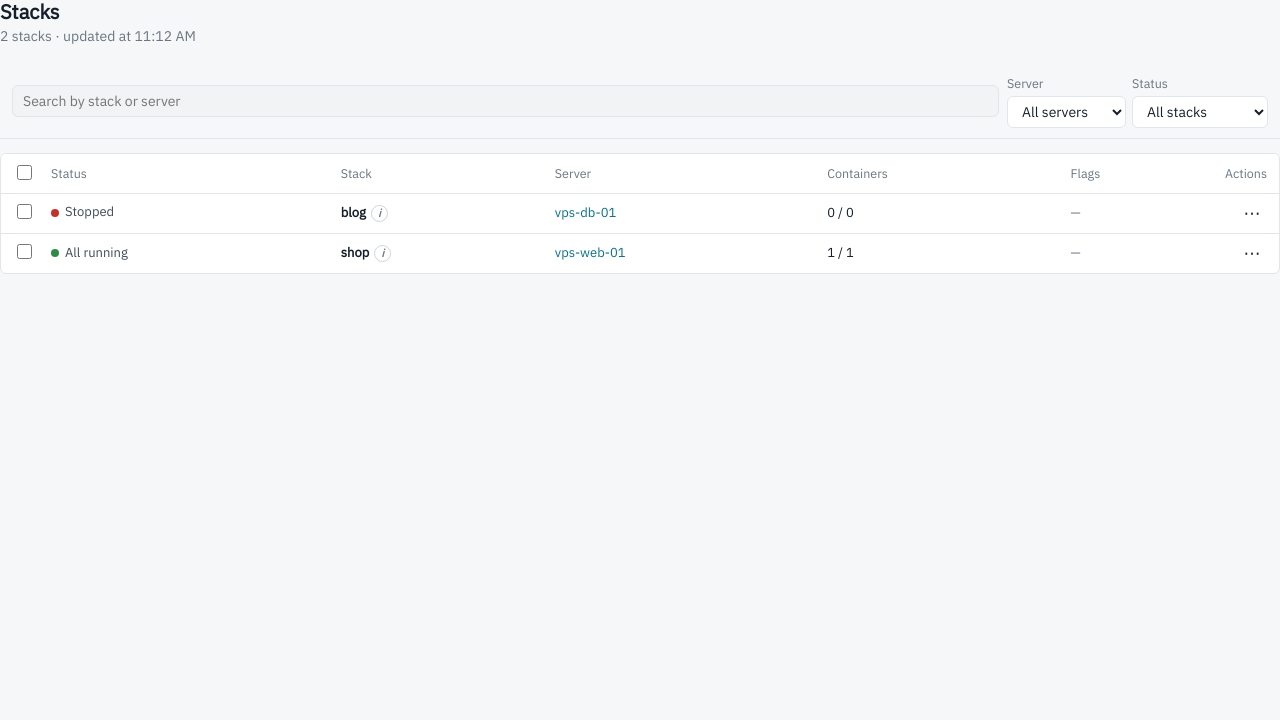
Test: Stacks › confirms bulk Restart and reports the summary
Expected: the link "blog" is shown, [341,204,366,222]
Click the checkbox named "Select all" at (24, 173), box [17,165,32,180]
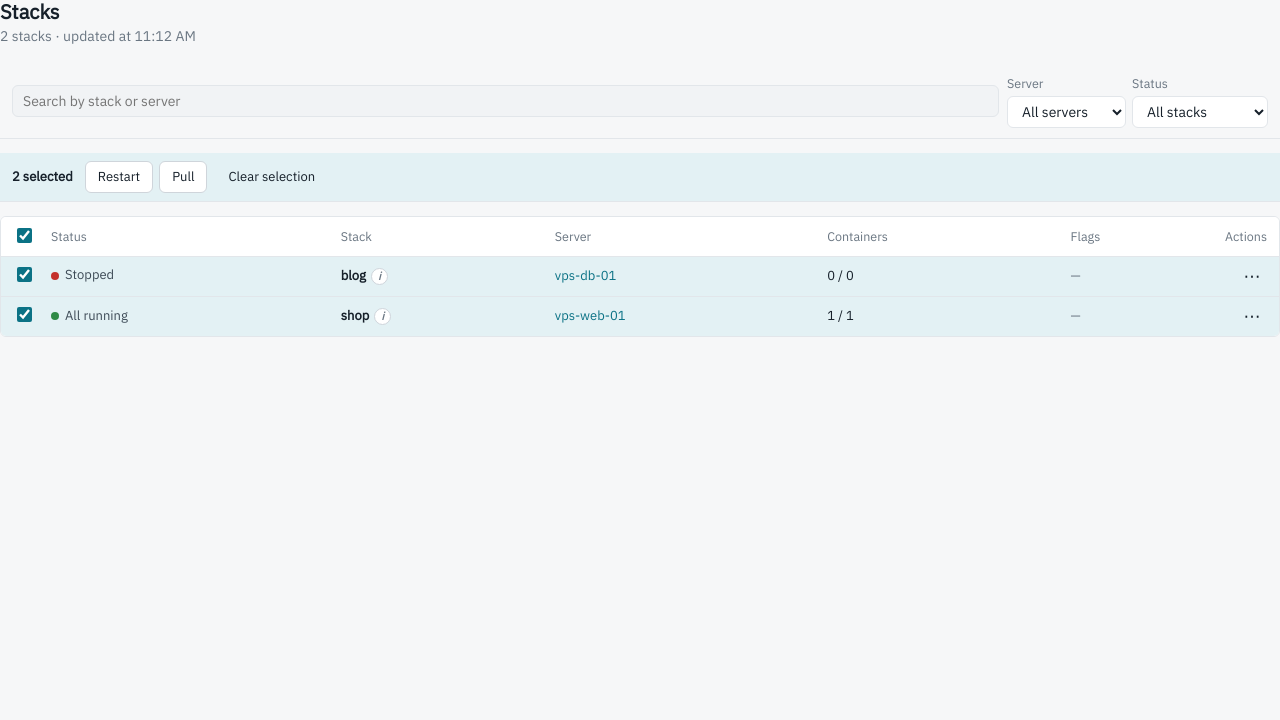
Click the button "Restart" at (119, 177), box [85,161,153,193]
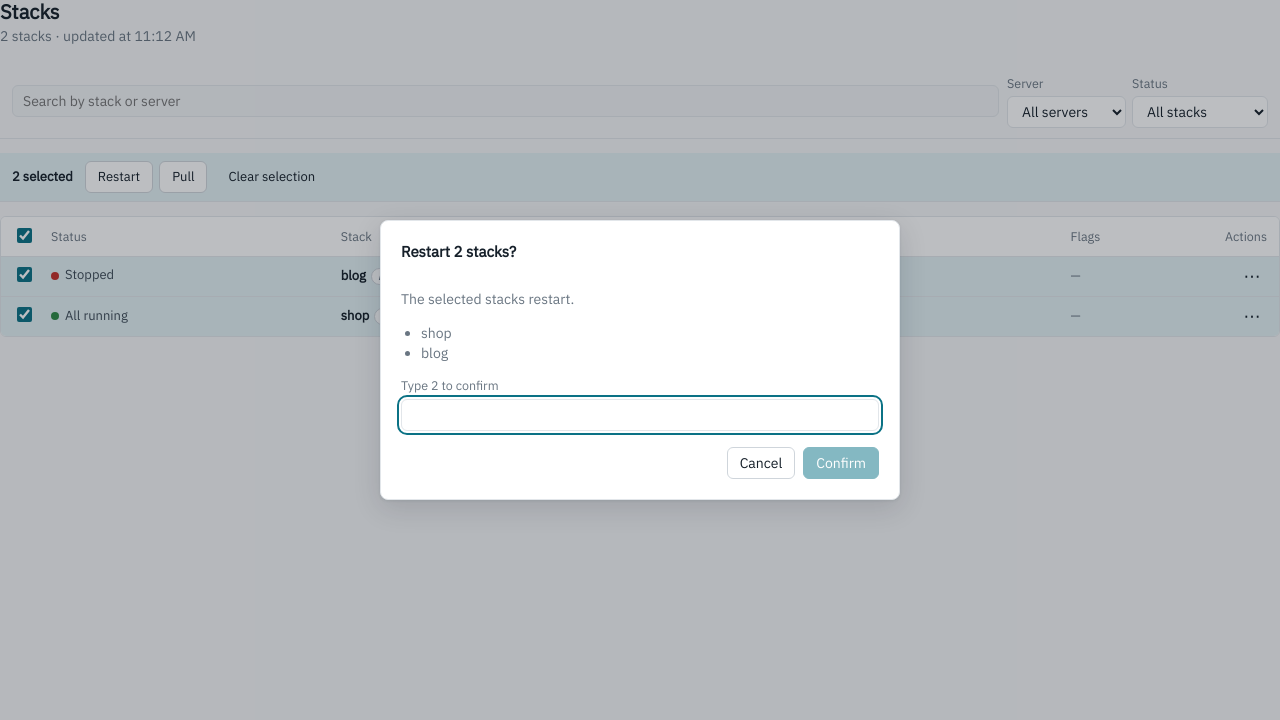
Expected: the heading "Restart 2 stacks?" is shown, [401,242,516,261]
Type "2" into the field labelled "Type 2 to confirm" at (640, 415), box [401,399,879,431]
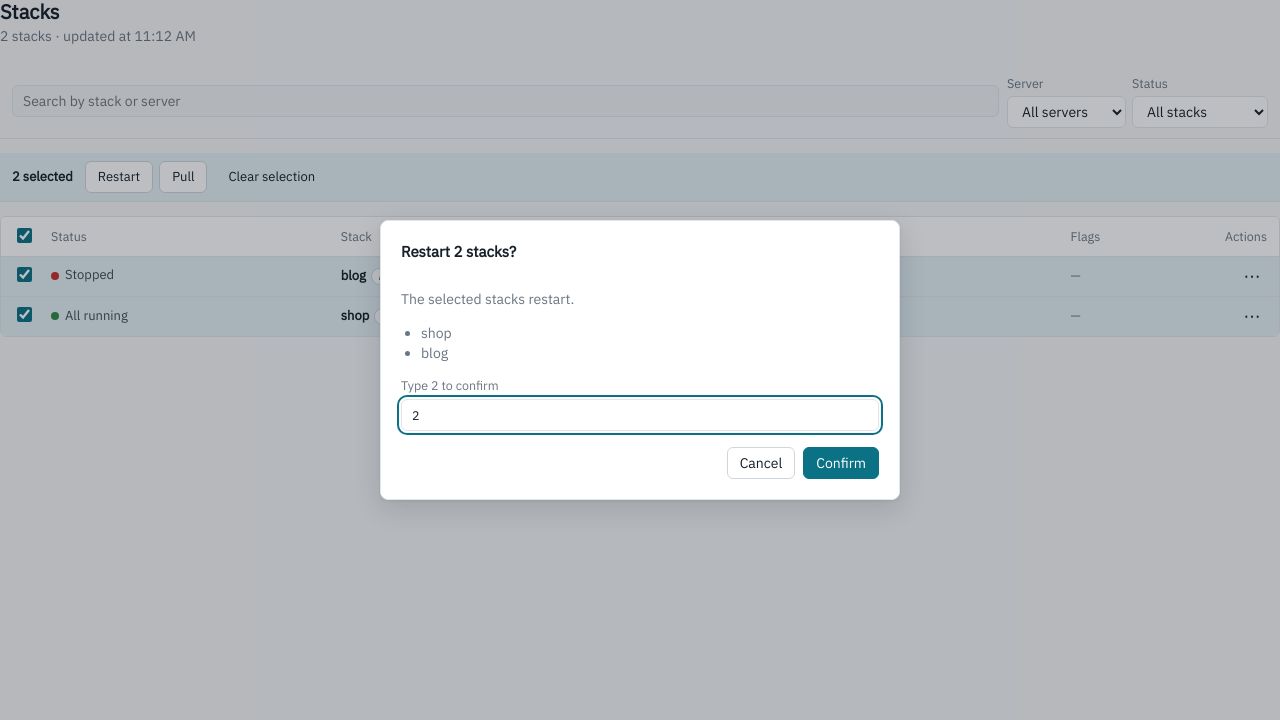
Click the button "Confirm" at (841, 463), box [803,447,879,479]
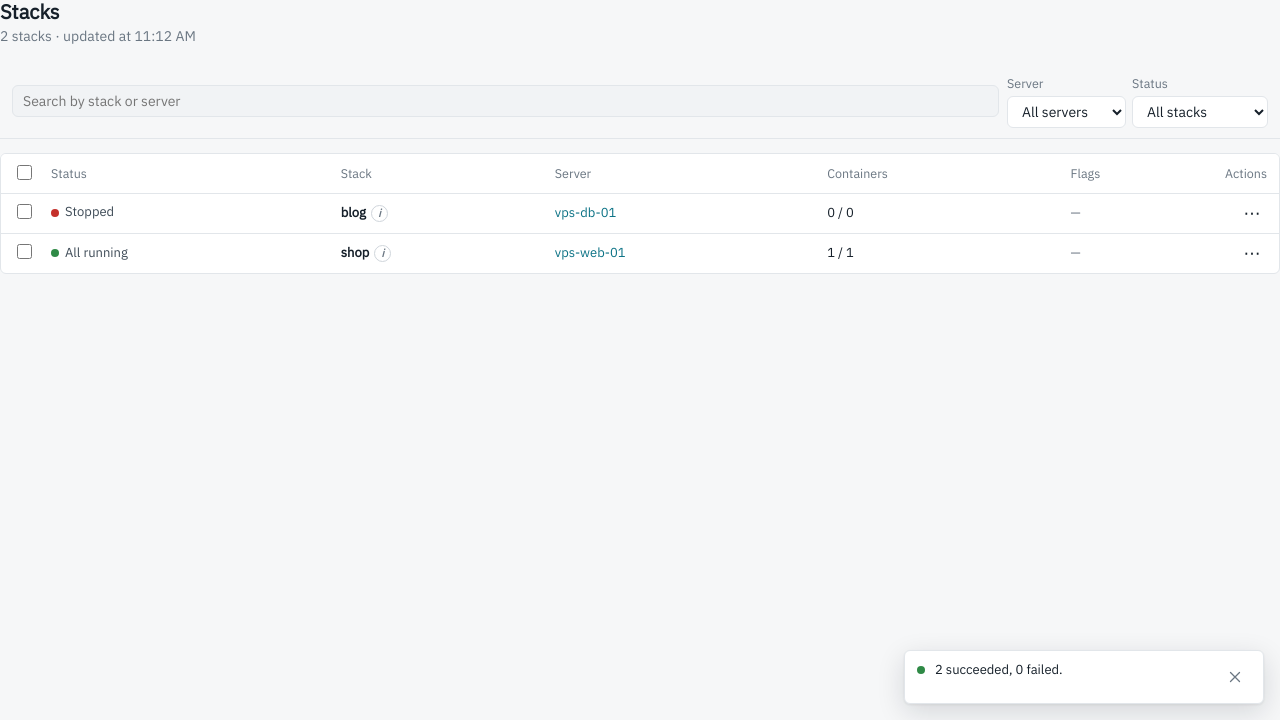
Expected: the text "2 succeeded, 0 failed." is shown, [935,661,1063,678]
